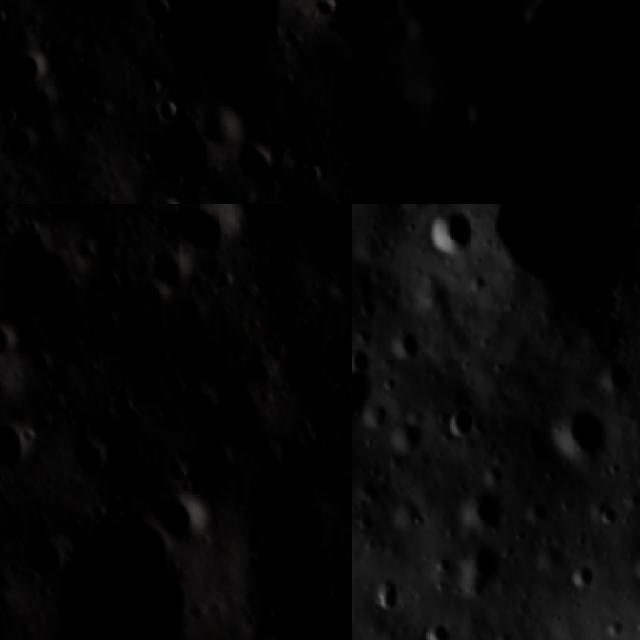crater: (470, 204, 640, 342), (62, 515, 236, 640), (150, 0, 324, 107), (0, 209, 95, 327), (537, 400, 612, 466), (164, 204, 242, 265), (417, 204, 486, 270), (141, 484, 206, 546), (461, 539, 532, 592), (4, 532, 70, 589), (440, 75, 486, 154), (230, 139, 291, 194), (63, 432, 119, 486), (432, 394, 484, 451), (453, 480, 507, 534), (309, 333, 352, 390), (0, 119, 49, 168), (3, 43, 54, 90), (352, 350, 379, 433), (0, 415, 35, 476), (383, 324, 427, 369), (598, 359, 640, 405), (320, 0, 352, 53), (489, 0, 526, 45), (367, 576, 402, 618), (333, 522, 352, 584), (565, 118, 596, 154), (417, 617, 462, 640), (140, 186, 194, 204)
